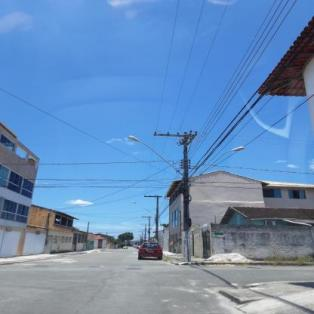Poste: (178, 131, 190, 265), (152, 195, 160, 243)
